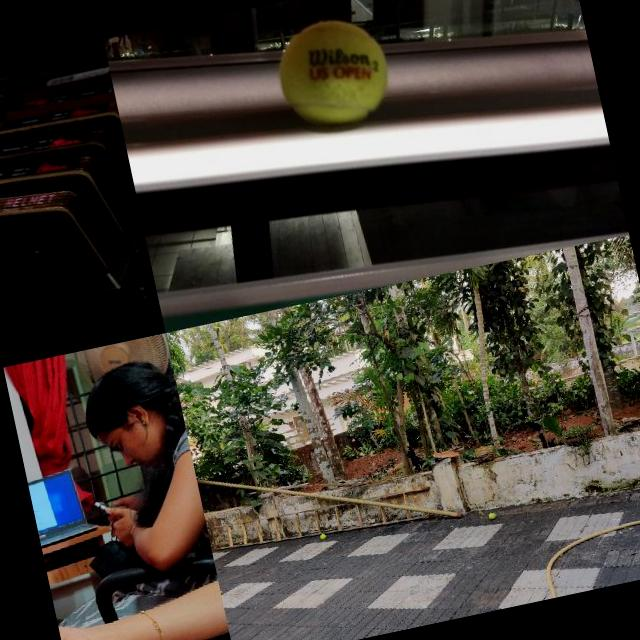tennis-ball: (268, 8, 398, 136), (488, 512, 496, 520), (318, 533, 326, 540)
